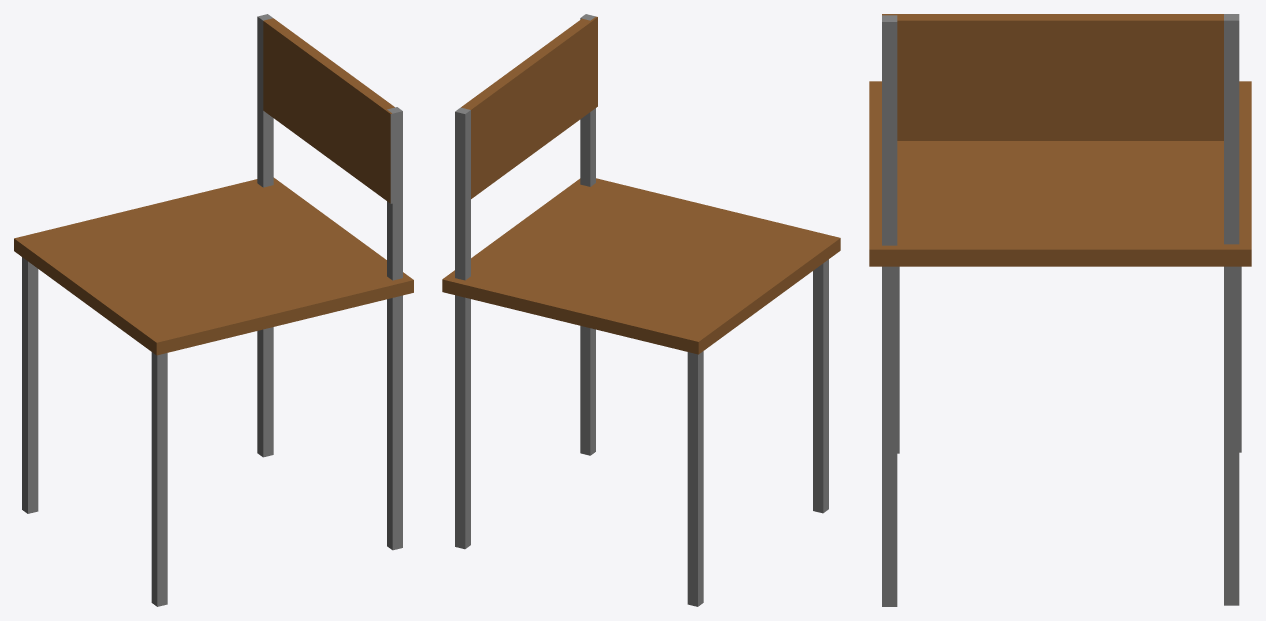
File: STUL.fbx
3 views of the same model, side by side, from view 1: azimuth 30°, elevation 25°; view 2: azimuth 150°, elevation 25°; view 3: azimuth 270°, elevation 25° (orthographic). The views are drawn at different scales.
Visible parts, largest first — view 1: Cube.002; view 2: Cube.002; view 3: Cube.002.
Part boxes in pixels (x1=…): Cube.002: x1=14, y1=14, x2=413, y2=606; Cube.002: x1=442, y1=14, x2=840, y2=606; Cube.002: x1=869, y1=14, x2=1251, y2=606.
Bounding box in the file's own units: 452 × 734 × 434.
